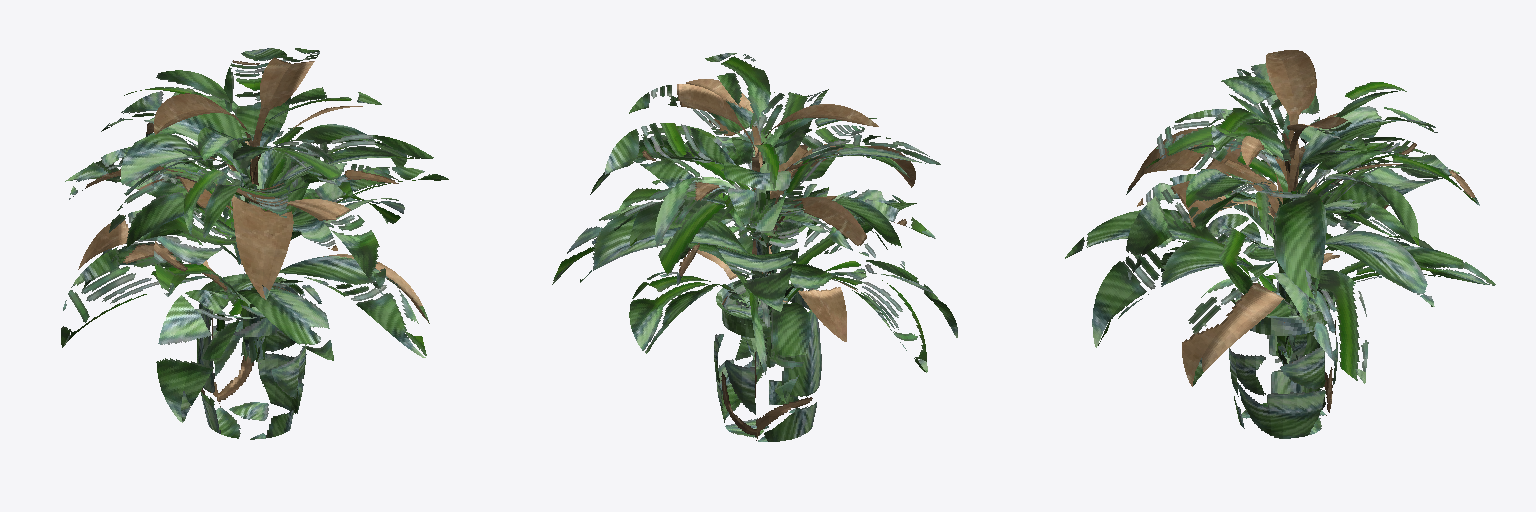
3 renders of one model, left to right at view 1: azimuth 30°, elevation 25°; view 2: azimuth 150°, elevation 25°; view 3: azimuth 270°, elevation 25°, orthographic.
Visible parts, largest first — view 1: solid_003, solid_001, solid_002; view 2: solid_003, solid_001; view 3: solid_003, solid_001.
Part boxes in pixels (left/top/right/bottom): solid_003: left=61, top=48, right=448, bottom=422; solid_001: left=197, top=274, right=306, bottom=439; solid_002: left=211, top=282, right=289, bottom=316; solid_003: left=552, top=53, right=957, bottom=402; solid_001: left=714, top=279, right=821, bottom=441; solid_003: left=1065, top=50, right=1495, bottom=386; solid_001: left=1229, top=274, right=1337, bottom=438.
Bounding box in the file's own units: 1.4 × 1.26 × 1.49.
1 materials, 1 textured.